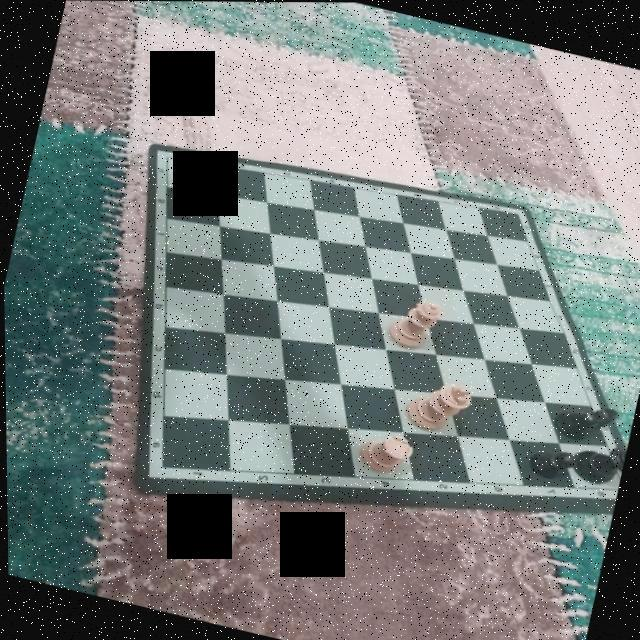chess-table-corners: (493, 198, 538, 230), (144, 451, 180, 481), (147, 144, 186, 170)
